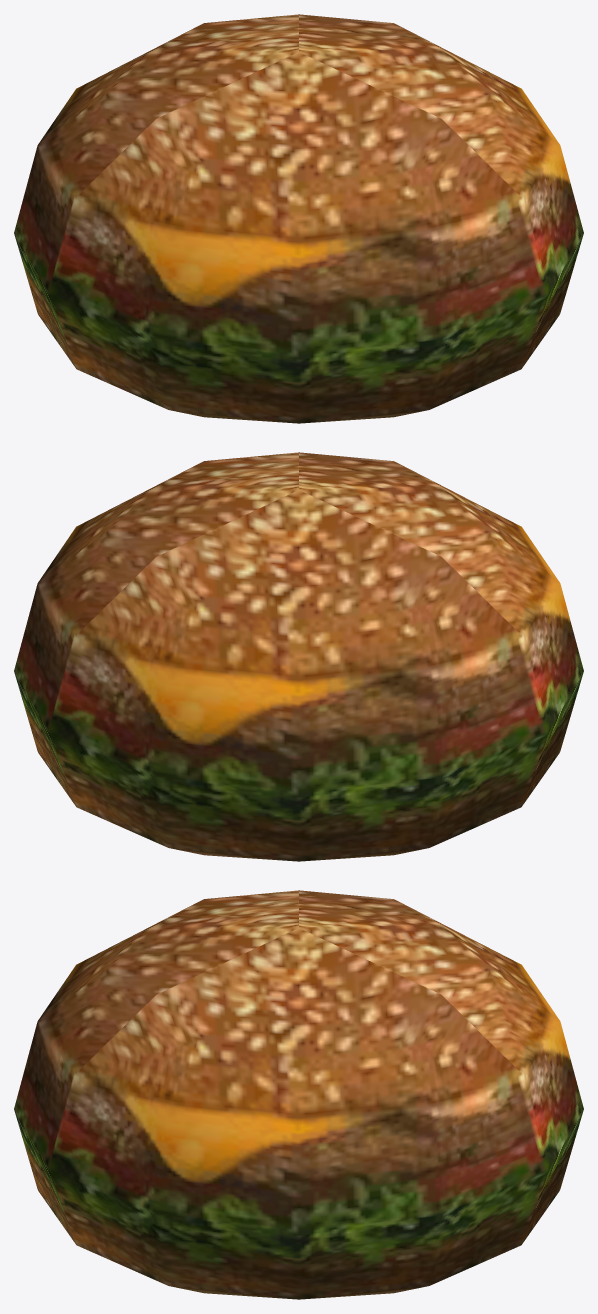
File: hamburger.glb
3 views of the same model, one above another, from view 1: azimuth 30°, elevation 25°; view 2: azimuth 150°, elevation 25°; view 3: azimuth 270°, elevation 25° (orthographic).
Visible parts, largest first — view 1: Hamburger; view 2: Hamburger; view 3: Hamburger.
Part boxes in pixels (bbox=[...]): Hamburger: bbox=[14, 14, 583, 423]; Hamburger: bbox=[14, 452, 583, 861]; Hamburger: bbox=[14, 890, 583, 1299].
Bounding box in the file's own units: 6.47 × 3.8 × 6.4.
1 material, 1 textured.
